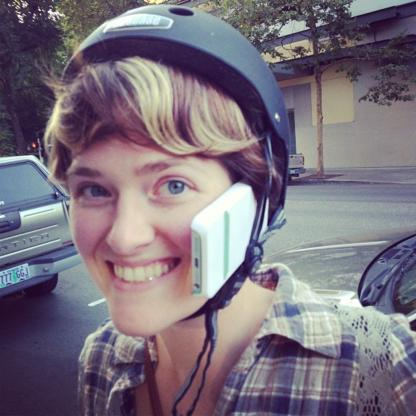Helmet: (43, 1, 313, 352)
